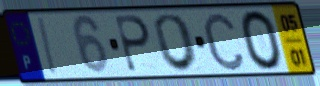6: (71, 13, 113, 78)
C: (200, 10, 248, 73)
I: (36, 16, 60, 77)
O: (238, 8, 285, 73), (153, 12, 202, 74)
P: (113, 14, 153, 75)
